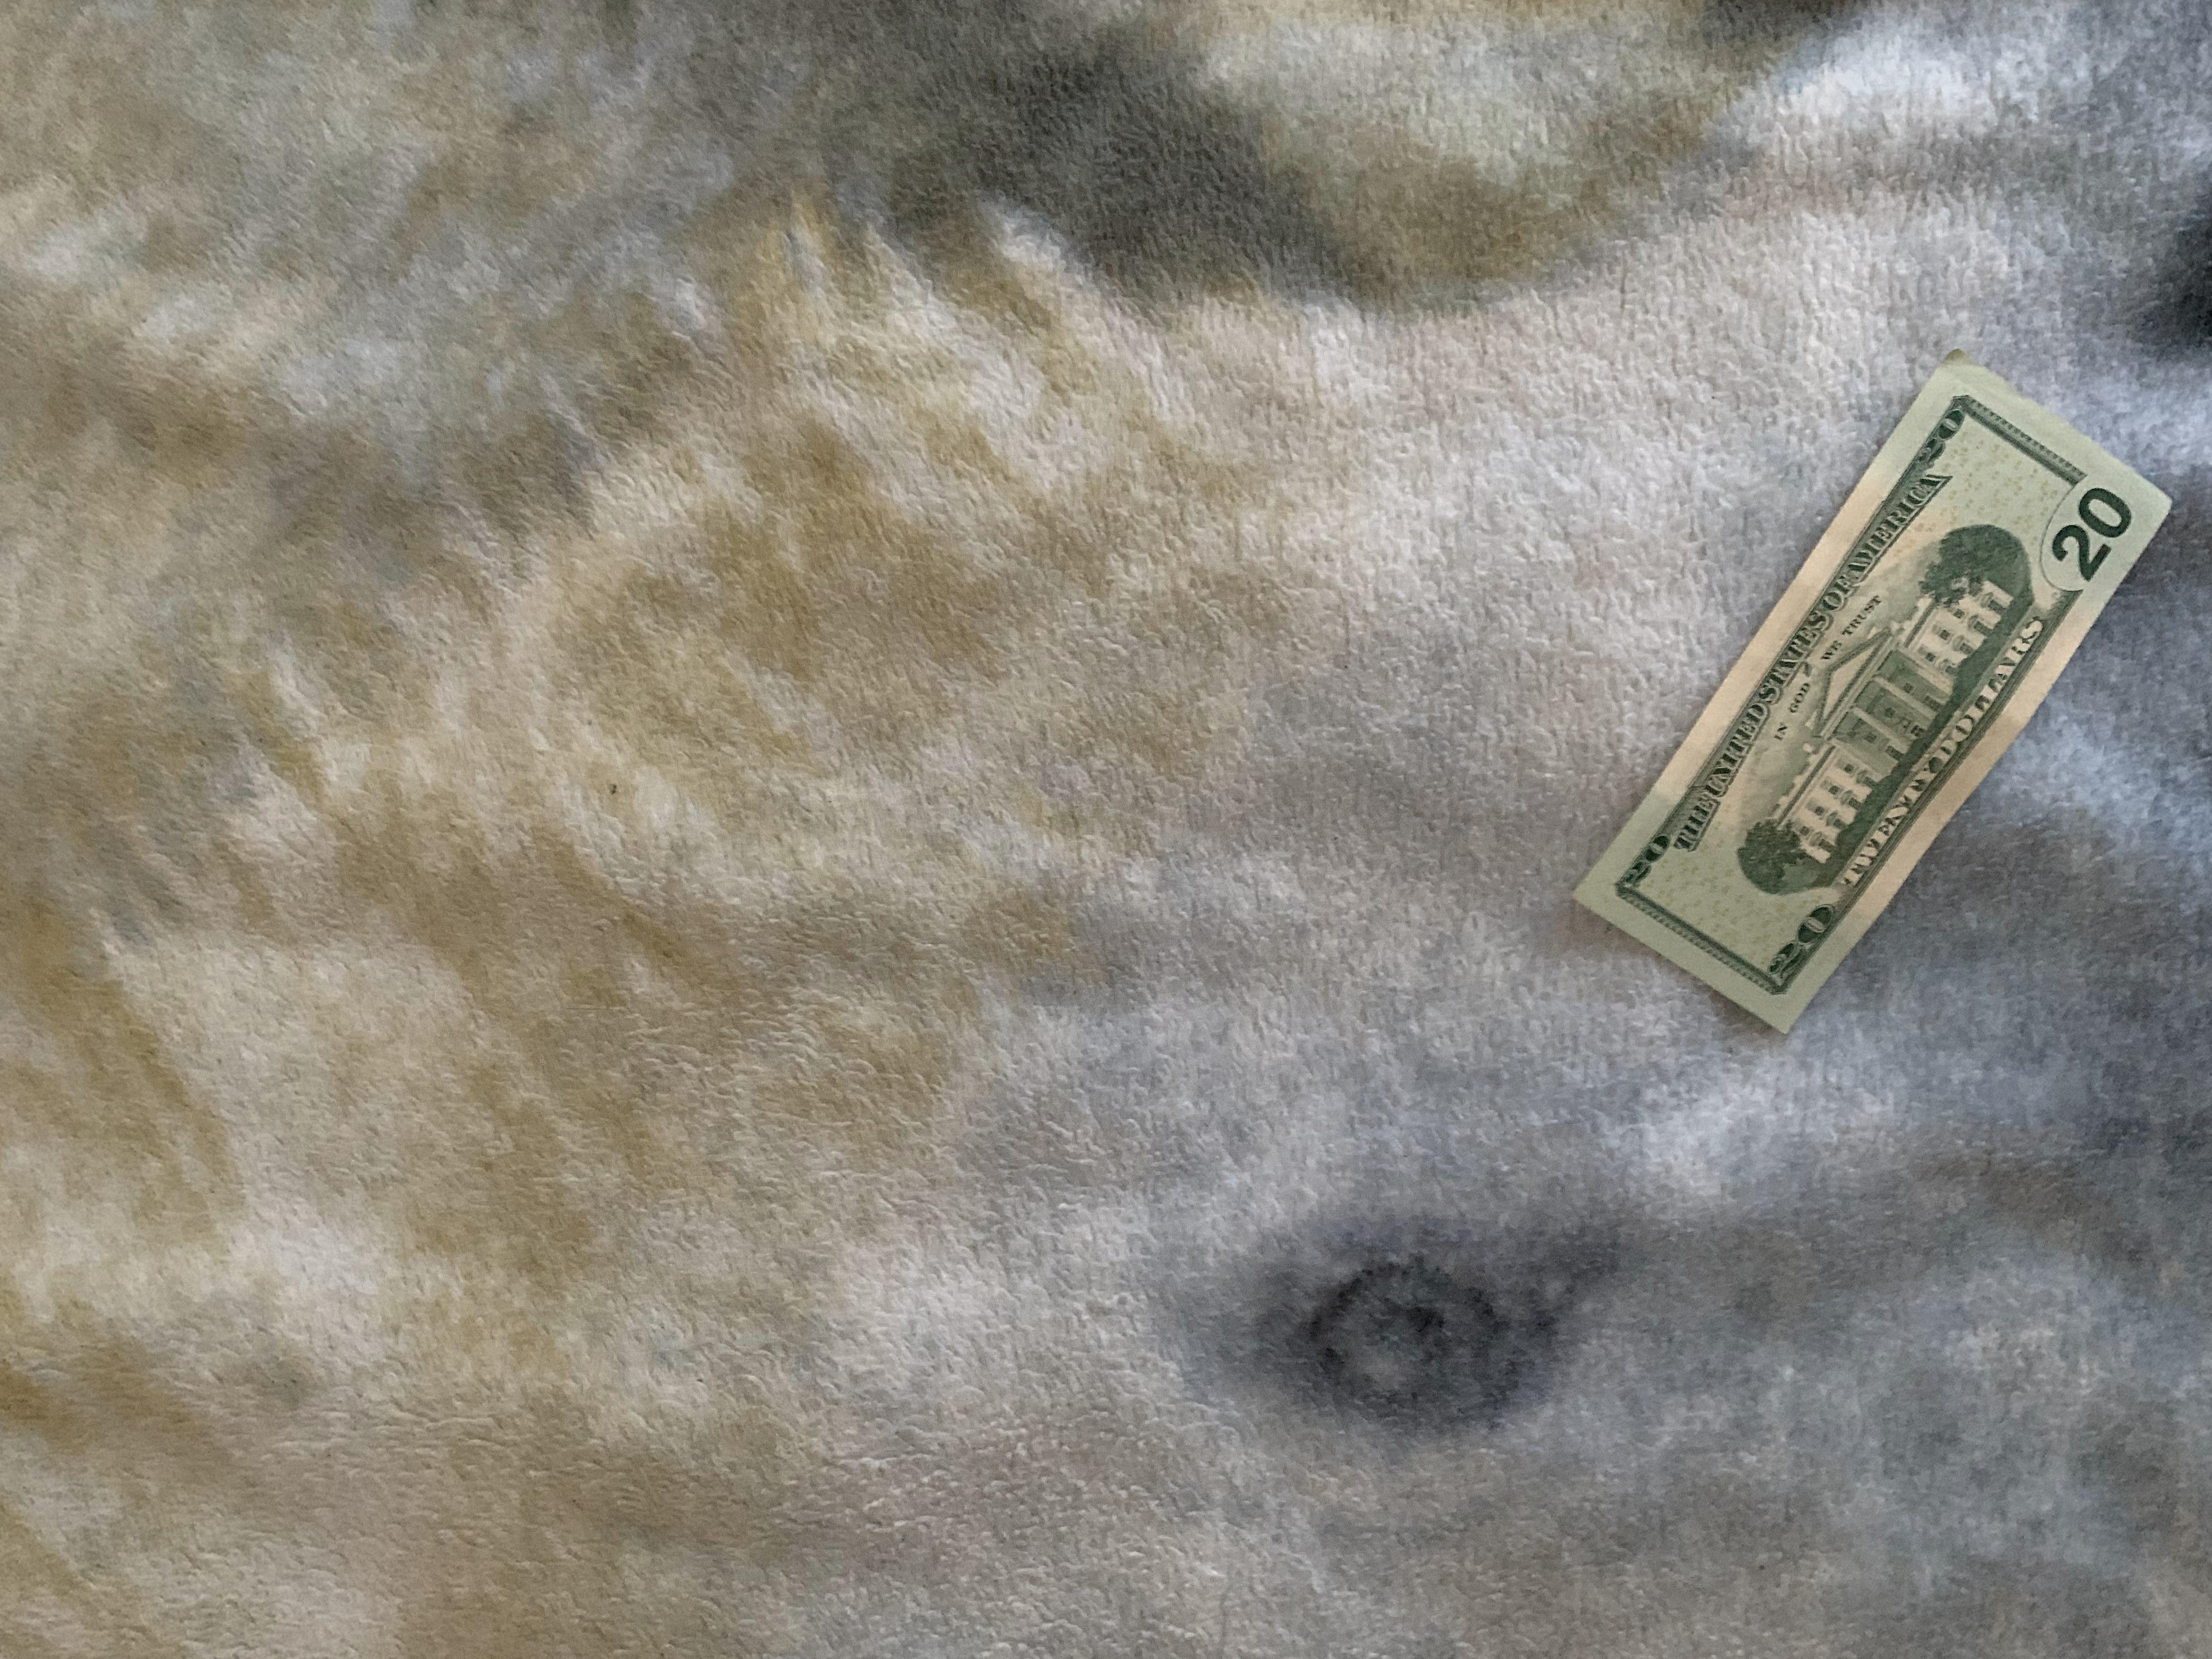TwentyBill: (1562, 347, 2179, 1042)
